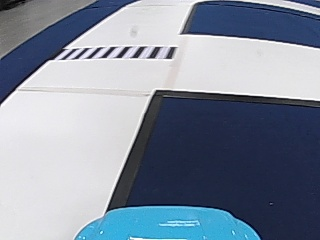CrossWalk: (66, 44, 176, 59)
